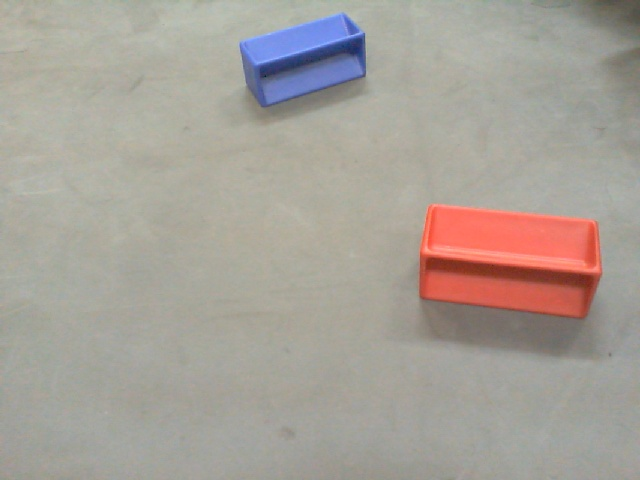BlueSample: (237, 10, 372, 110)
RedSample: (414, 191, 606, 330)
